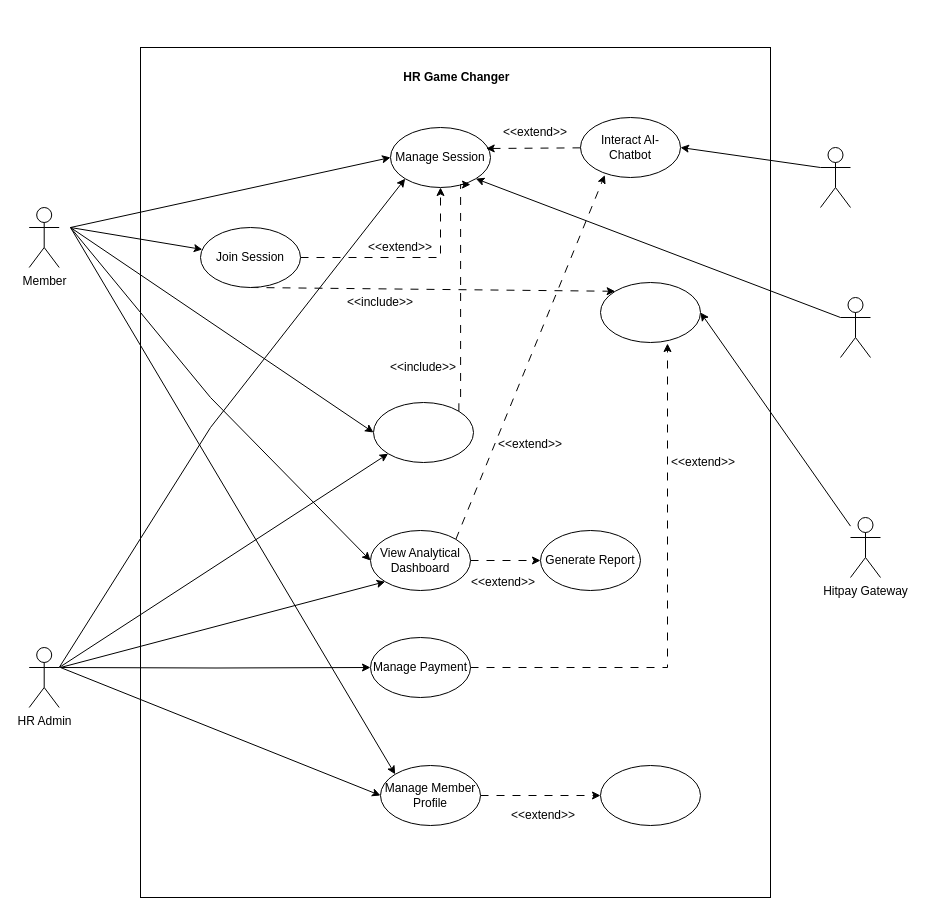
This 925x915 diagram has some shape labels left out. Here are the shapes that lost their labels. From the top down, the centre of each, then its label:
At (835,177): "Ai (Gemini API)".
At (650,312): "Process Payment".
At (855,327): "Zoom API".
At (423,432): "Manage E-Certificates".
At (650,795): "View Member".
